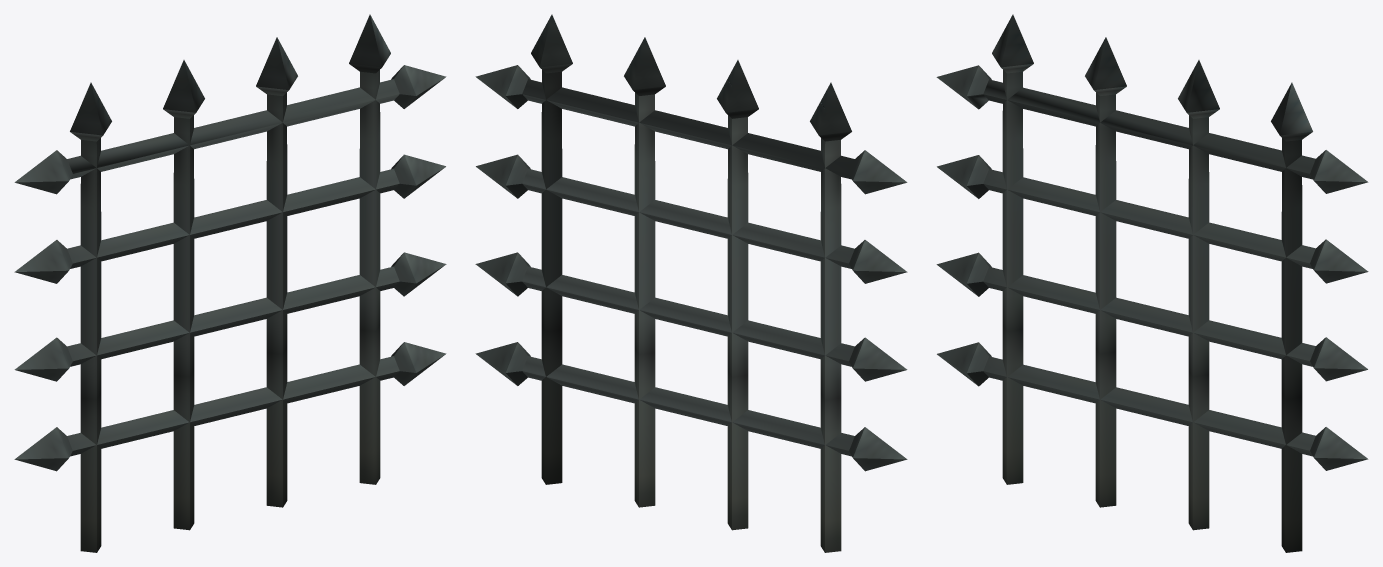
Rendered from graveyard_04_2.FBX.
3 renders of one model, left to right at view 1: azimuth 30°, elevation 25°; view 2: azimuth 150°, elevation 25°; view 3: azimuth 330°, elevation 25°, orthographic.
Parts seen in each view (by area): view 1: polySurface1745; view 2: polySurface1745; view 3: polySurface1745.
Part boxes in pixels (<box>): polySurface1745: <box>14,14,446,552</box>; polySurface1745: <box>475,14,907,552</box>; polySurface1745: <box>936,14,1368,552</box>.
Size of the model in its own units: 27.74 by 28.61 by 2.73.
1 material, 1 textured.
